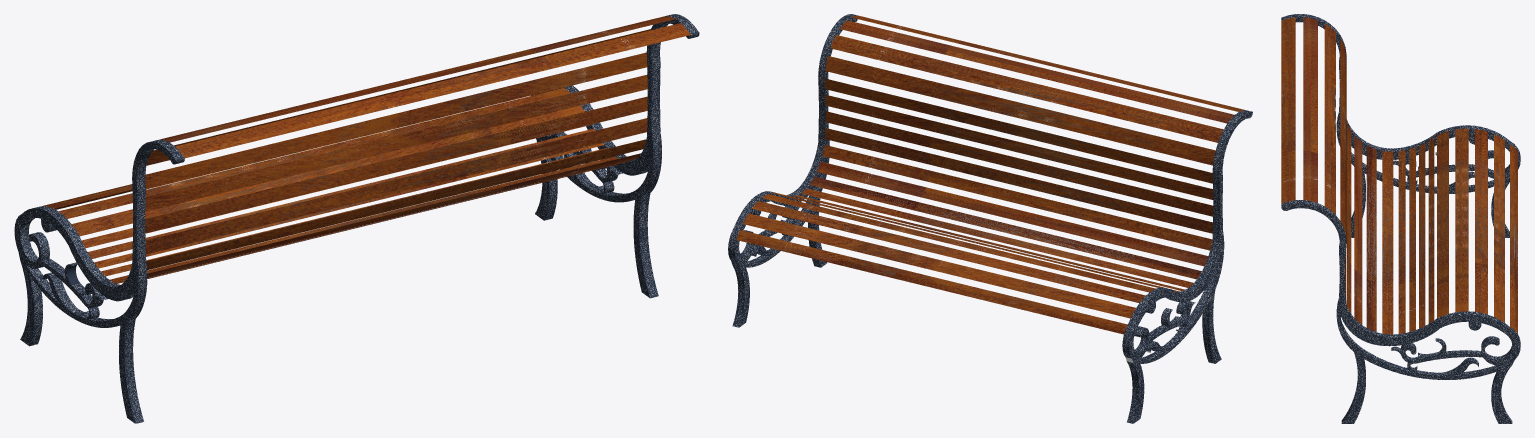
The picture shows the model from 3 angles, left to right: view 1: azimuth 30°, elevation 25°; view 2: azimuth 150°, elevation 25°; view 3: azimuth 270°, elevation 25°; orthographic projection. The views are drawn at different scales.
Visible parts, largest first — view 1: mesh1_mesh1-geometry; view 2: mesh1_mesh1-geometry; view 3: mesh1_mesh1-geometry.
Boxes of the visible parts, x1,y1,x2,y2 form: mesh1_mesh1-geometry: [14, 14, 699, 423]; mesh1_mesh1-geometry: [728, 14, 1252, 423]; mesh1_mesh1-geometry: [1281, 14, 1520, 423].
Bounding box in the file's own units: 0.7949 × 0.4326 × 0.4253.
